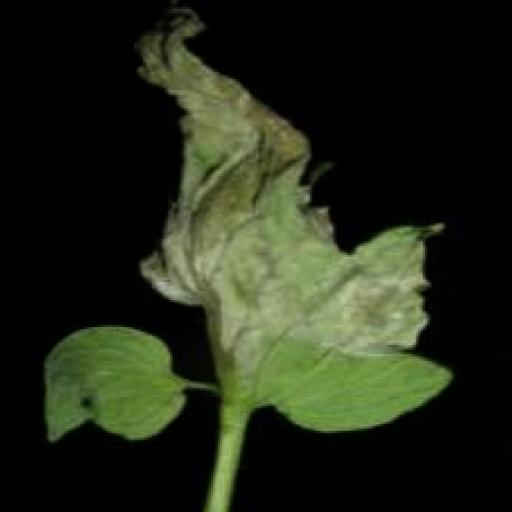Late Blight: (36, 2, 462, 456)
